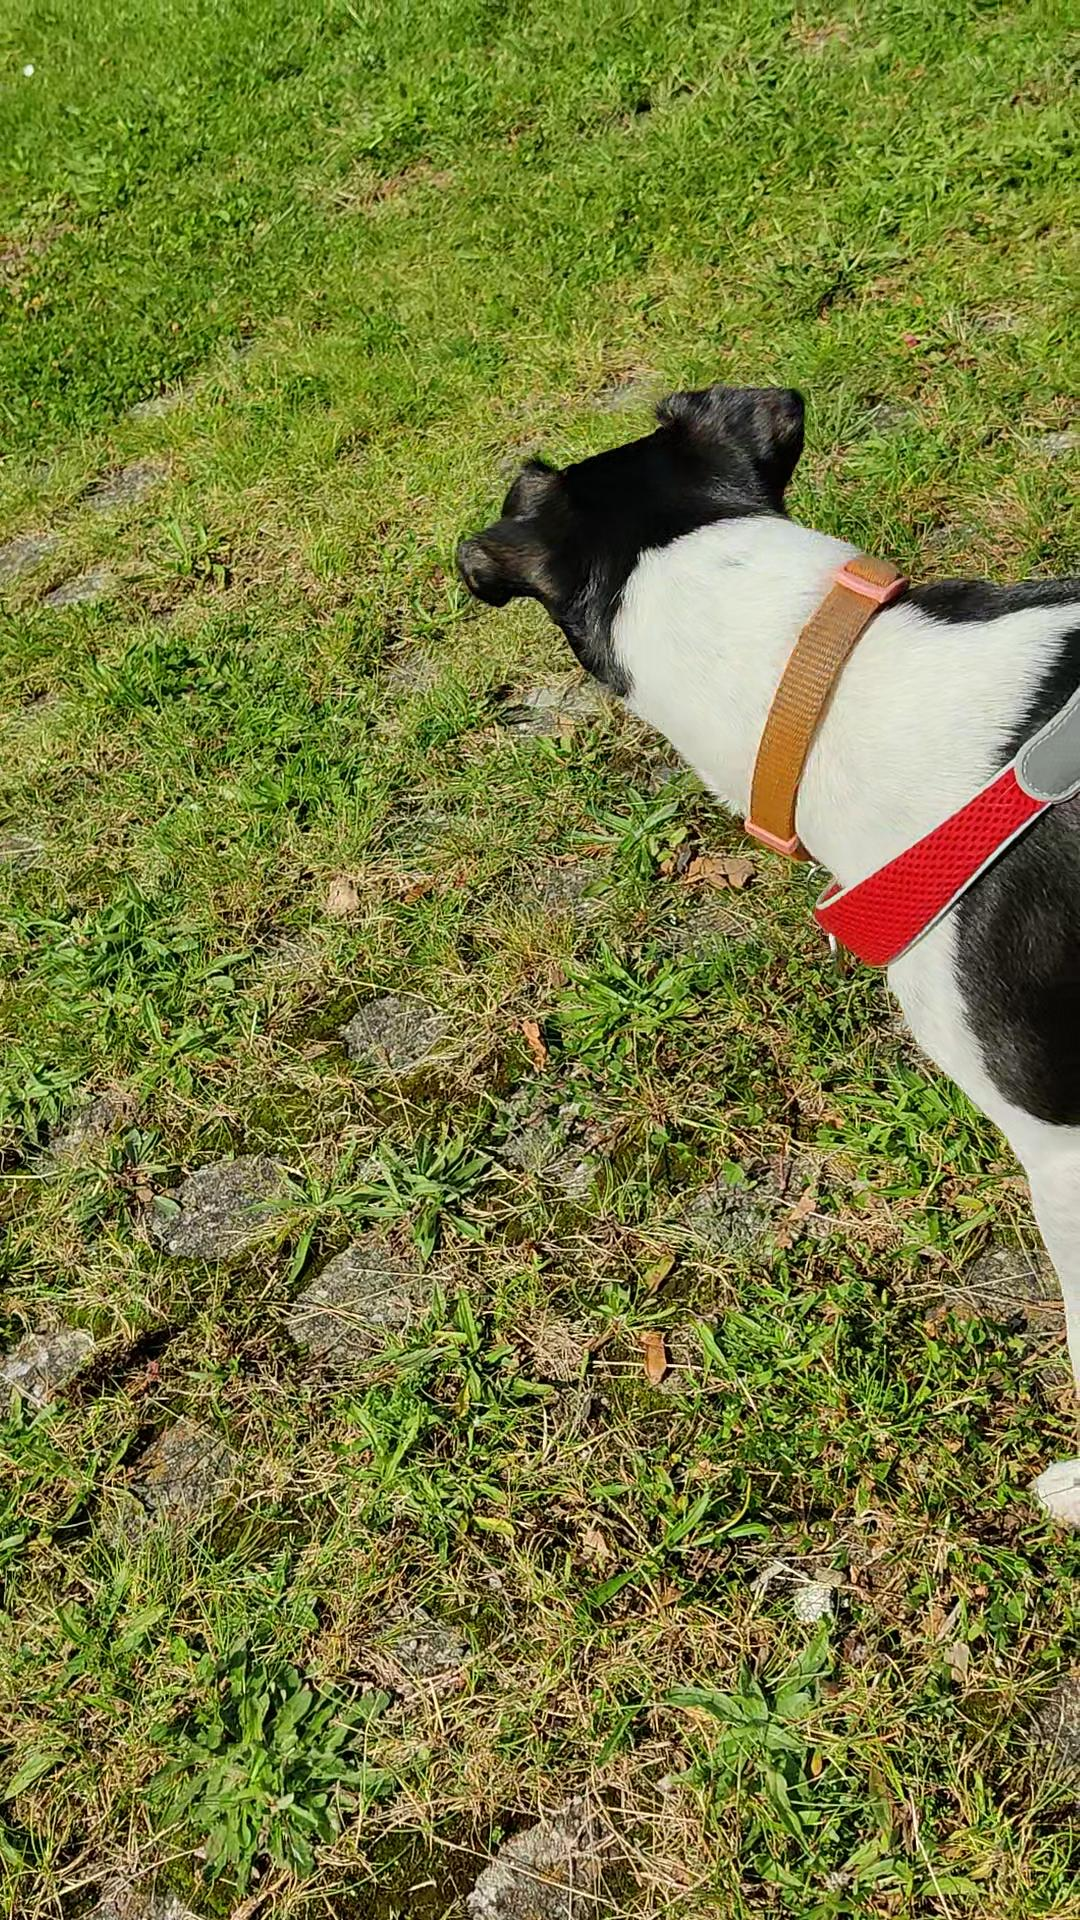Dog: (444, 378, 1079, 1545)
